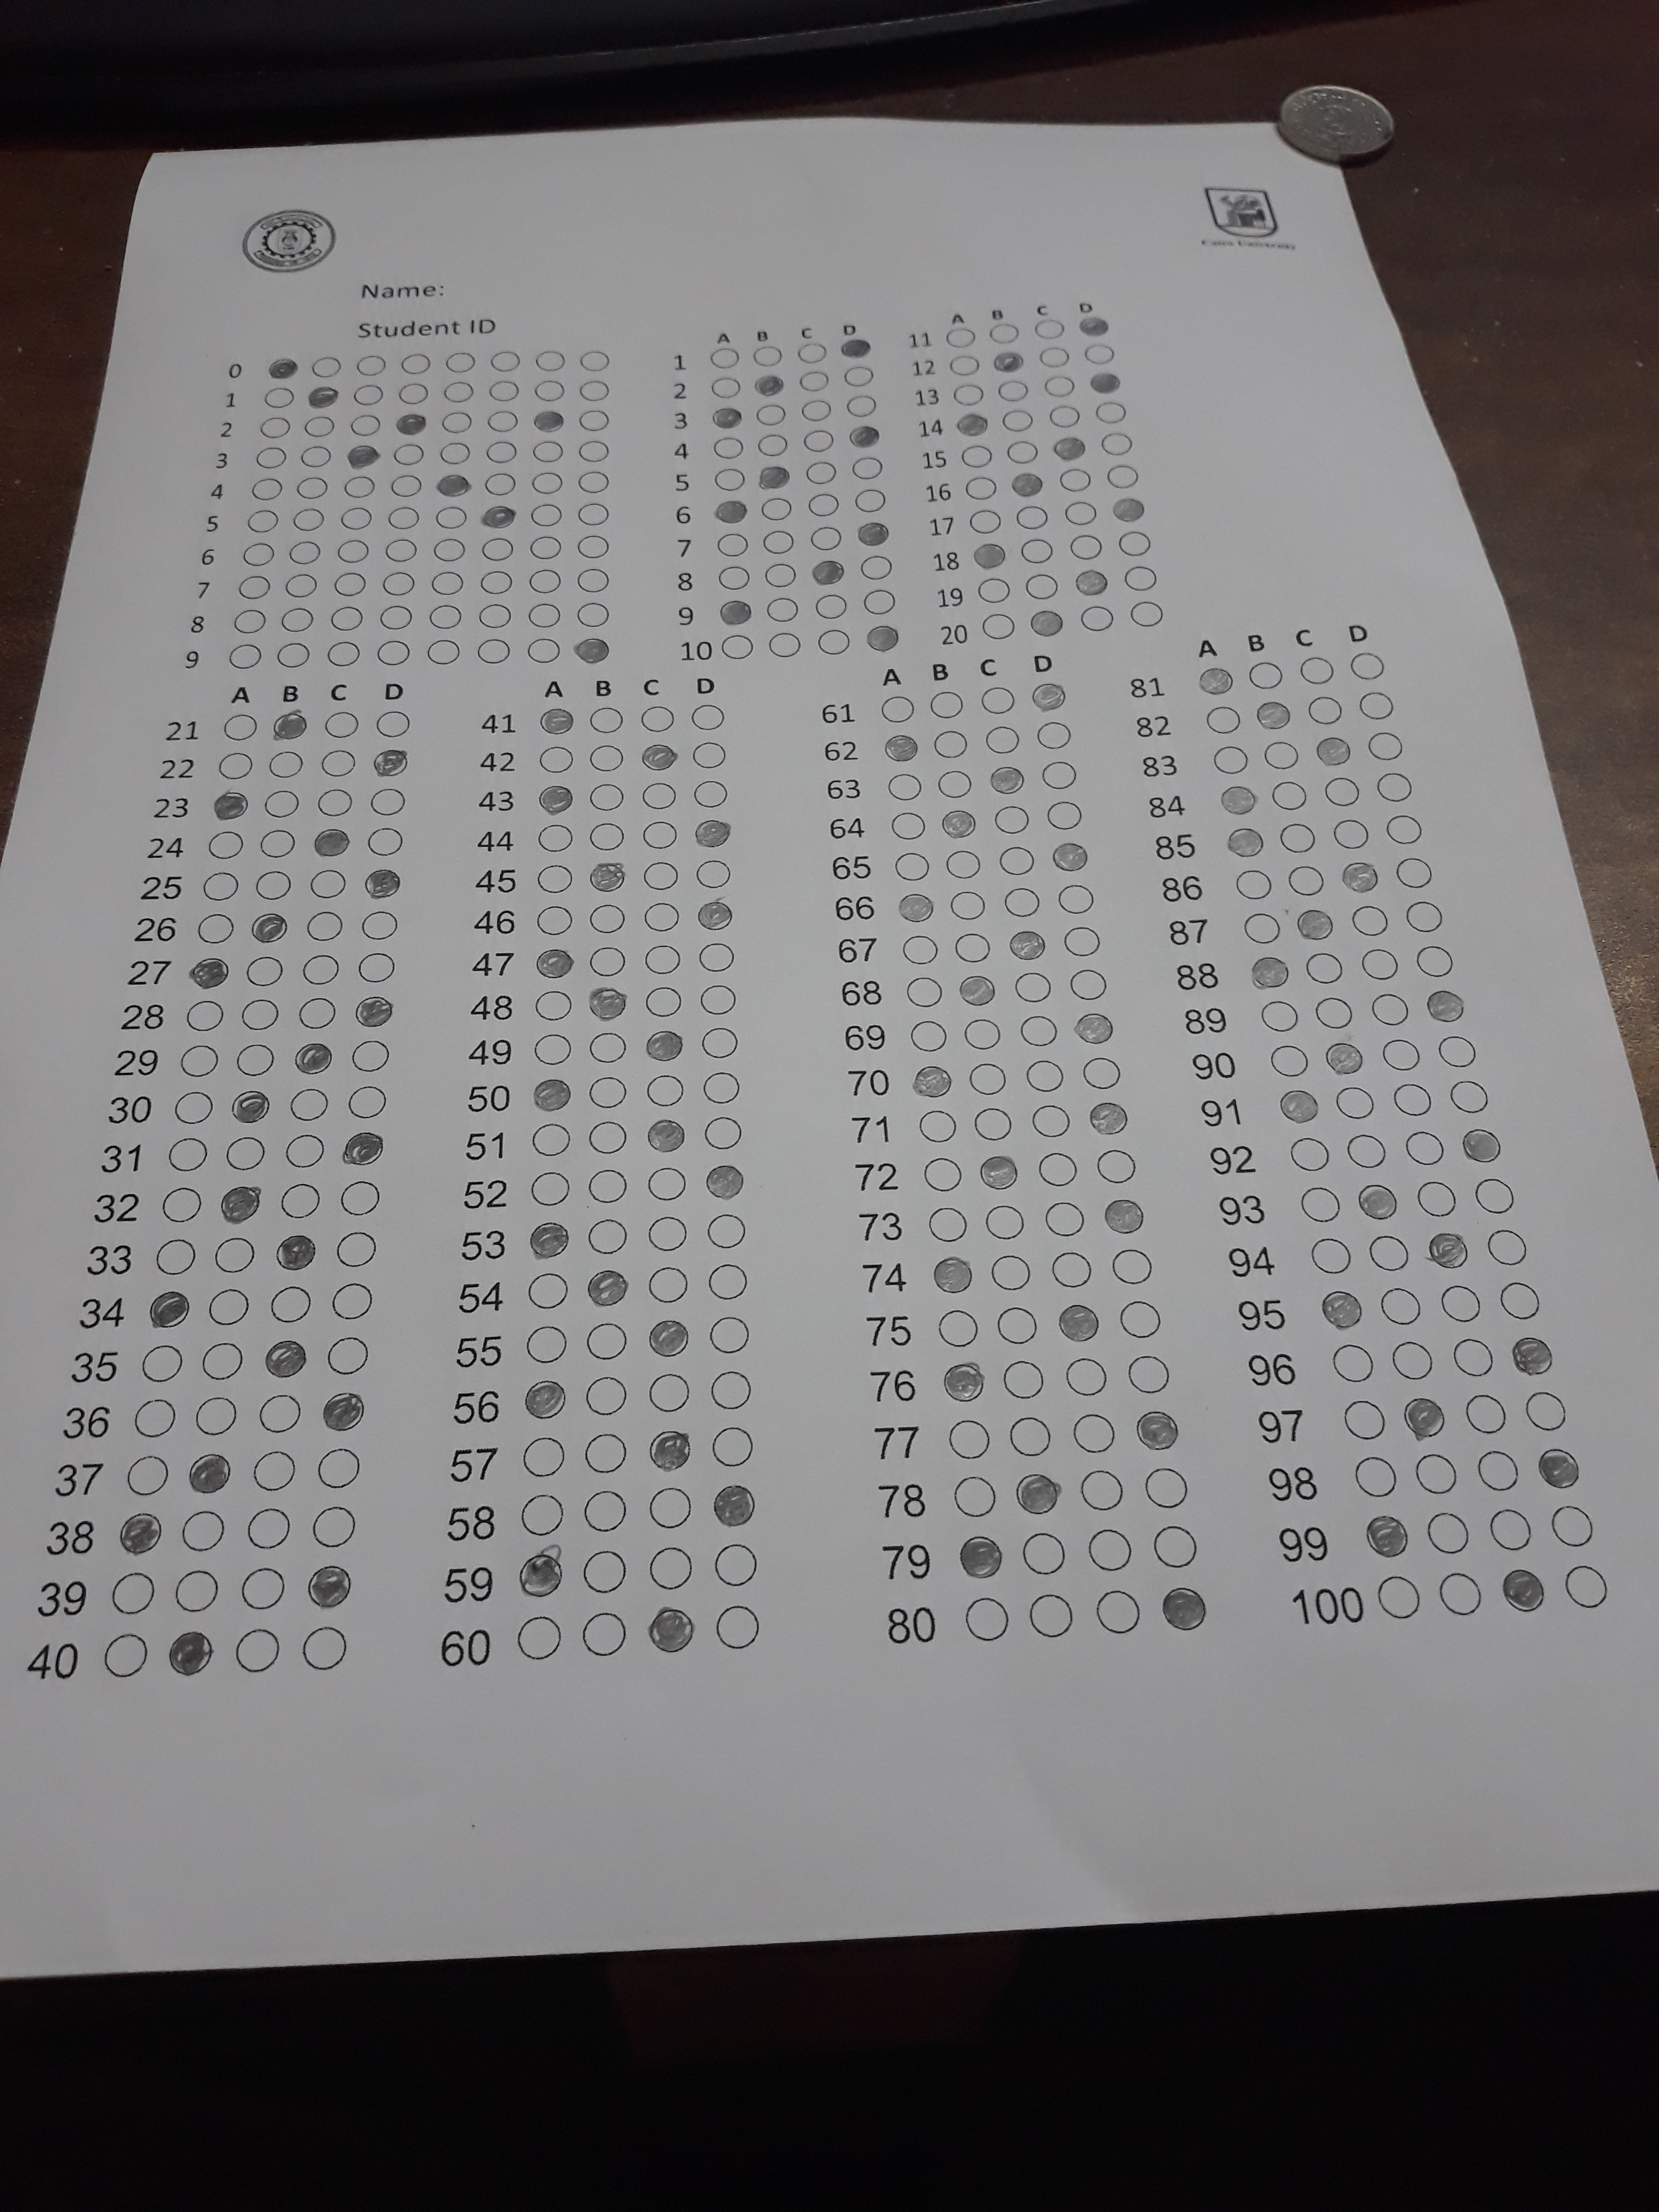not-c: (1436, 1571, 1485, 1620), (579, 1611, 627, 1660), (122, 1453, 173, 1500), (101, 1632, 152, 1679), (300, 1625, 350, 1672), (173, 1569, 225, 1615), (106, 1571, 159, 1616), (1094, 1590, 1143, 1637), (713, 1602, 760, 1651), (516, 1493, 566, 1538), (1375, 1573, 1420, 1623), (579, 1489, 629, 1534), (708, 1425, 758, 1470), (645, 1486, 695, 1531), (308, 1505, 359, 1550), (244, 1507, 295, 1552), (179, 1508, 230, 1554), (237, 1566, 288, 1611), (234, 1629, 284, 1674), (1565, 1562, 1610, 1611), (962, 1597, 1009, 1642), (1026, 1594, 1073, 1639), (516, 1615, 561, 1662), (1150, 1526, 1199, 1569), (1086, 1529, 1134, 1573), (1486, 1508, 1535, 1552), (1473, 1449, 1521, 1493), (1340, 1397, 1389, 1440), (1330, 1341, 1378, 1385), (1387, 1339, 1436, 1383), (1006, 1414, 1054, 1458), (1000, 1359, 1049, 1402), (1093, 1146, 1141, 1190), (1143, 1467, 1190, 1510), (1018, 1533, 1065, 1576), (1424, 1512, 1471, 1555), (1464, 1393, 1511, 1437), (648, 1547, 695, 1590), (713, 1543, 760, 1587), (936, 1306, 983, 1350), (946, 1418, 993, 1461), (1077, 1470, 1124, 1514), (925, 1202, 972, 1245), (981, 1200, 1028, 1244), (1352, 1456, 1401, 1498), (1547, 1505, 1596, 1547), (1061, 1357, 1110, 1399), (1070, 1413, 1119, 1454), (1126, 1353, 1175, 1395), (1115, 1298, 1164, 1339), (1047, 1249, 1096, 1291), (1413, 1453, 1460, 1494), (582, 1550, 629, 1592), (951, 1475, 999, 1517), (993, 1305, 1040, 1346), (1108, 1245, 1155, 1287), (988, 1251, 1035, 1292), (526, 1270, 573, 1310), (580, 1322, 627, 1362), (584, 1376, 631, 1416), (523, 1435, 570, 1475), (211, 1235, 258, 1275), (199, 1341, 246, 1381), (193, 1395, 240, 1435), (251, 1451, 298, 1491), (333, 1228, 380, 1268), (275, 1179, 322, 1219), (694, 979, 741, 1019), (530, 1118, 577, 1158), (586, 1165, 633, 1205), (586, 1116, 633, 1157), (645, 1214, 692, 1254), (701, 1113, 748, 1153), (521, 1325, 568, 1366), (1439, 1282, 1483, 1324), (1380, 1285, 1424, 1327), (1267, 1040, 1310, 1082), (1011, 967, 1054, 1008), (941, 843, 985, 885), (890, 845, 934, 887), (647, 1372, 692, 1413), (706, 1315, 751, 1355), (584, 1433, 629, 1474), (152, 1237, 197, 1277), (207, 1287, 253, 1327), (256, 1393, 301, 1433), (268, 1285, 314, 1325), (326, 1334, 371, 1374), (329, 1280, 375, 1320), (338, 1177, 383, 1217), (164, 1134, 209, 1174), (157, 1184, 202, 1224), (699, 1022, 744, 1062), (530, 1165, 575, 1205), (586, 1216, 631, 1256), (645, 1165, 690, 1205), (709, 1371, 756, 1409), (138, 1345, 185, 1383), (704, 1211, 751, 1249), (1310, 1235, 1352, 1277), (1344, 1130, 1385, 1172), (1406, 1127, 1448, 1169), (1448, 1075, 1490, 1116), (971, 1103, 1012, 1144), (1452, 1338, 1495, 1378), (1366, 1233, 1410, 1273), (1415, 1179, 1459, 1219), (1298, 1184, 1342, 1224), (1335, 1083, 1378, 1123), (1391, 1080, 1434, 1120), (1525, 1390, 1568, 1430), (1497, 1280, 1540, 1320), (1485, 1228, 1528, 1268), (1471, 1176, 1514, 1216), (917, 1106, 960, 1146), (1030, 1103, 1073, 1143), (1025, 1055, 1068, 1096), (1080, 1054, 1124, 1094), (965, 1059, 1009, 1099), (1018, 1010, 1061, 1050), (962, 1014, 1006, 1054), (906, 1015, 950, 1055), (903, 972, 946, 1012), (950, 928, 993, 968), (1042, 1198, 1086, 1238), (1035, 1150, 1079, 1190), (920, 1157, 965, 1195), (132, 1399, 178, 1437), (315, 1449, 361, 1487), (221, 1136, 267, 1174), (701, 1068, 746, 1106), (704, 1261, 749, 1299), (647, 1266, 692, 1305), (1290, 1134, 1331, 1174), (295, 995, 338, 1033), (305, 866, 349, 904), (232, 1042, 275, 1080), (173, 1089, 216, 1127), (586, 1029, 629, 1068), (641, 982, 685, 1021), (300, 949, 342, 988), (195, 911, 237, 949), (246, 951, 288, 989), (289, 1085, 331, 1123), (347, 1083, 389, 1122), (587, 942, 629, 981), (641, 941, 683, 979), (183, 996, 227, 1033), (178, 1043, 221, 1080), (282, 1134, 326, 1170), (359, 907, 403, 944), (532, 1031, 575, 1068), (587, 1073, 631, 1109), (530, 988, 573, 1024), (899, 930, 939, 968), (301, 907, 343, 944), (237, 998, 279, 1035), (349, 1038, 390, 1075), (355, 949, 397, 986), (645, 1071, 687, 1108), (948, 888, 990, 923), (1279, 820, 1319, 855), (1305, 693, 1345, 728), (1415, 944, 1455, 979), (1405, 899, 1445, 934), (1366, 728, 1406, 763), (1000, 885, 1040, 920), (535, 820, 577, 853), (206, 829, 247, 862), (258, 827, 300, 860), (253, 867, 295, 900), (261, 786, 303, 819), (267, 747, 308, 780), (364, 824, 406, 857), (369, 707, 411, 740), (220, 709, 261, 742), (1286, 862, 1324, 897), (1260, 998, 1298, 1033), (1262, 738, 1300, 773), (1331, 817, 1370, 852), (1385, 812, 1424, 846), (1351, 904, 1391, 937), (1359, 949, 1399, 982), (1436, 1035, 1476, 1068), (1371, 993, 1412, 1026), (1303, 951, 1344, 984), (1241, 913, 1281, 946), (1236, 869, 1276, 902), (1211, 744, 1251, 777), (1202, 704, 1243, 737), (1269, 780, 1309, 813), (1321, 775, 1361, 808), (1298, 655, 1338, 688), (1394, 855, 1434, 888), (1375, 770, 1415, 803), (1349, 648, 1389, 681), (695, 939, 735, 972), (587, 902, 627, 935), (586, 819, 626, 852), (589, 780, 629, 813), (587, 740, 627, 773), (537, 742, 577, 775), (640, 779, 680, 812), (690, 777, 730, 810), (687, 700, 727, 733), (997, 845, 1037, 878), (889, 810, 929, 843), (993, 803, 1033, 836), (1046, 799, 1086, 833), (887, 770, 927, 803), (981, 723, 1021, 756), (932, 726, 972, 759), (216, 749, 256, 782), (315, 786, 355, 819), (319, 747, 359, 780), (368, 786, 408, 819), (322, 705, 362, 738), (535, 862, 577, 894), (640, 819, 681, 850), (1068, 970, 1110, 1001), (1033, 719, 1075, 751), (978, 685, 1019, 716), (1382, 1038, 1420, 1071), (1314, 996, 1352, 1029), (1248, 658, 1286, 691), (1356, 688, 1394, 721), (641, 900, 681, 932), (535, 904, 575, 935), (641, 860, 681, 892), (694, 857, 734, 888), (687, 740, 727, 772), (586, 704, 626, 735), (638, 704, 678, 735), (1061, 927, 1101, 958), (1056, 883, 1096, 914), (1039, 758, 1079, 789), (934, 768, 974, 799), (931, 688, 971, 719), (878, 693, 918, 725), (200, 871, 240, 902), (533, 347, 568, 374), (484, 408, 519, 435), (441, 378, 476, 406), (396, 380, 430, 408), (333, 571, 368, 599), (253, 444, 288, 472), (350, 381, 385, 409), (308, 354, 343, 381), (432, 536, 467, 564), (577, 500, 612, 528), (483, 470, 518, 498), (845, 392, 880, 420), (755, 401, 789, 428), (950, 381, 985, 409), (1019, 536, 1054, 564), (1068, 533, 1103, 561), (1100, 428, 1134, 456), (1124, 564, 1159, 592), (575, 566, 610, 594), (528, 568, 563, 596), (812, 592, 847, 620), (859, 554, 894, 582), (1033, 315, 1068, 343), (958, 444, 995, 470), (579, 347, 612, 374), (490, 348, 523, 376), (444, 348, 477, 376), (382, 570, 415, 597), (383, 536, 416, 564), (329, 604, 362, 632), (281, 608, 314, 636), (340, 505, 373, 533), (342, 472, 375, 500), (228, 643, 261, 671), (234, 608, 267, 636), (239, 573, 272, 601), (242, 540, 275, 568), (300, 442, 333, 470), (532, 469, 565, 496), (800, 395, 833, 423), (709, 373, 742, 401), (579, 406, 612, 434), (796, 338, 829, 366), (709, 345, 742, 373), (713, 465, 746, 493), (809, 491, 842, 519), (716, 531, 749, 559), (714, 435, 748, 463), (1049, 402, 1082, 430), (1080, 604, 1114, 632), (528, 601, 561, 629), (765, 596, 798, 624), (863, 587, 896, 615), (817, 629, 850, 657), (577, 378, 612, 404), (488, 378, 523, 404), (439, 408, 474, 434), (378, 604, 413, 631), (390, 442, 425, 469), (399, 352, 434, 378), (326, 641, 361, 667), (291, 507, 326, 533), (301, 415, 336, 441), (347, 413, 382, 439), (261, 385, 296, 411), (425, 639, 460, 665), (577, 469, 612, 495), (430, 570, 465, 596), (577, 437, 612, 463), (530, 503, 565, 529), (749, 343, 784, 369), (850, 455, 885, 481), (1016, 505, 1051, 531), (964, 475, 999, 502), (1058, 467, 1093, 493), (1063, 500, 1098, 526), (1129, 601, 1164, 627), (981, 613, 1016, 639), (526, 637, 561, 664), (763, 561, 798, 587), (762, 529, 796, 556), (809, 526, 843, 552), (946, 352, 981, 378), (997, 378, 1032, 404), (1084, 341, 1119, 368), (943, 324, 978, 350), (769, 632, 802, 658), (535, 378, 568, 404), (484, 439, 518, 465), (439, 441, 472, 467), (376, 639, 410, 665), (387, 505, 420, 531), (390, 474, 423, 500), (336, 538, 369, 564), (277, 643, 310, 669), (284, 573, 317, 599), (288, 540, 321, 566), (295, 475, 328, 502), (246, 509, 279, 535), (251, 477, 284, 503), (354, 354, 387, 380), (260, 415, 293, 441), (479, 603, 512, 629), (477, 637, 511, 664), (577, 533, 610, 559), (530, 535, 563, 561), (481, 570, 514, 596), (429, 603, 462, 629), (481, 536, 514, 563), (532, 439, 565, 465), (436, 505, 469, 531), (843, 362, 877, 388), (798, 369, 831, 395), (760, 495, 793, 521), (854, 488, 887, 514), (805, 460, 838, 486), (800, 427, 833, 453), (755, 430, 788, 456), (1002, 408, 1035, 434), (971, 507, 1004, 533), (1006, 439, 1039, 465), (978, 577, 1011, 603), (1025, 573, 1058, 599), (1093, 399, 1126, 425), (1107, 463, 1140, 489), (1119, 531, 1152, 557), (577, 603, 610, 629), (721, 634, 755, 660), (716, 564, 749, 590), (1044, 373, 1077, 399), (1039, 345, 1072, 371), (988, 320, 1021, 347)
taken-c: (303, 1562, 355, 1611), (647, 1606, 697, 1655), (167, 1630, 216, 1679), (1159, 1587, 1209, 1634), (1499, 1569, 1546, 1616), (957, 1536, 1006, 1581), (514, 1554, 565, 1597), (1364, 1514, 1412, 1559), (260, 1338, 308, 1381), (645, 1317, 694, 1360), (584, 1266, 633, 1310), (117, 1512, 166, 1554), (185, 1453, 234, 1494), (521, 1379, 570, 1421), (317, 1390, 366, 1432), (709, 1486, 758, 1527), (647, 1430, 695, 1472), (1014, 1474, 1060, 1515), (939, 1362, 985, 1404), (1537, 1447, 1582, 1489), (1319, 1291, 1364, 1331), (1056, 1303, 1101, 1343), (1134, 1411, 1180, 1451), (1401, 1397, 1446, 1437), (1509, 1336, 1554, 1376), (528, 1221, 573, 1259), (702, 1163, 748, 1202), (146, 1291, 192, 1329), (274, 1233, 319, 1271), (291, 1040, 336, 1078), (350, 991, 396, 1029), (218, 1186, 265, 1223), (911, 1062, 953, 1103), (645, 1118, 690, 1155), (530, 1078, 575, 1115), (228, 1089, 274, 1125), (340, 1130, 385, 1167), (186, 954, 232, 991), (934, 1256, 974, 1296), (978, 1155, 1019, 1193), (1427, 1231, 1469, 1270), (1358, 1183, 1399, 1221), (1323, 1042, 1364, 1080), (1424, 988, 1466, 1026), (1249, 954, 1291, 993), (957, 972, 999, 1010), (1103, 1198, 1143, 1237), (1462, 1127, 1502, 1165), (1279, 1087, 1319, 1125), (1089, 1101, 1129, 1139), (1075, 1010, 1115, 1049), (247, 911, 291, 944), (586, 988, 629, 1021), (532, 948, 575, 981), (695, 900, 739, 934), (361, 867, 404, 900), (643, 1029, 687, 1061), (1255, 698, 1293, 733), (1342, 860, 1380, 894), (1227, 827, 1265, 860), (1220, 784, 1258, 817), (1314, 735, 1352, 768), (1195, 665, 1234, 698), (1009, 928, 1047, 961), (896, 892, 934, 925), (988, 765, 1026, 798), (882, 733, 920, 766), (1028, 681, 1066, 714), (1297, 907, 1333, 941), (1053, 841, 1089, 874), (941, 808, 978, 841), (1086, 368, 1126, 397), (1077, 310, 1117, 340), (477, 502, 518, 531), (392, 409, 432, 439), (303, 381, 343, 411), (1028, 608, 1068, 637), (1110, 496, 1150, 526), (537, 784, 577, 813), (369, 749, 410, 779), (1011, 470, 1049, 500), (756, 463, 795, 493), (955, 409, 993, 439), (749, 369, 788, 399), (711, 404, 749, 434), (840, 334, 878, 364), (263, 352, 301, 381), (718, 597, 756, 627), (856, 521, 894, 550), (866, 624, 904, 653), (1073, 568, 1112, 597), (972, 542, 1011, 571), (310, 827, 349, 857), (211, 791, 249, 820), (589, 862, 627, 892), (640, 742, 678, 772), (537, 707, 575, 737), (1049, 434, 1089, 462), (990, 348, 1030, 376), (343, 442, 383, 470), (810, 559, 850, 587), (694, 819, 734, 846), (575, 636, 613, 664), (713, 498, 751, 526), (845, 421, 884, 449), (436, 472, 474, 500), (530, 408, 568, 435), (272, 712, 310, 740)
